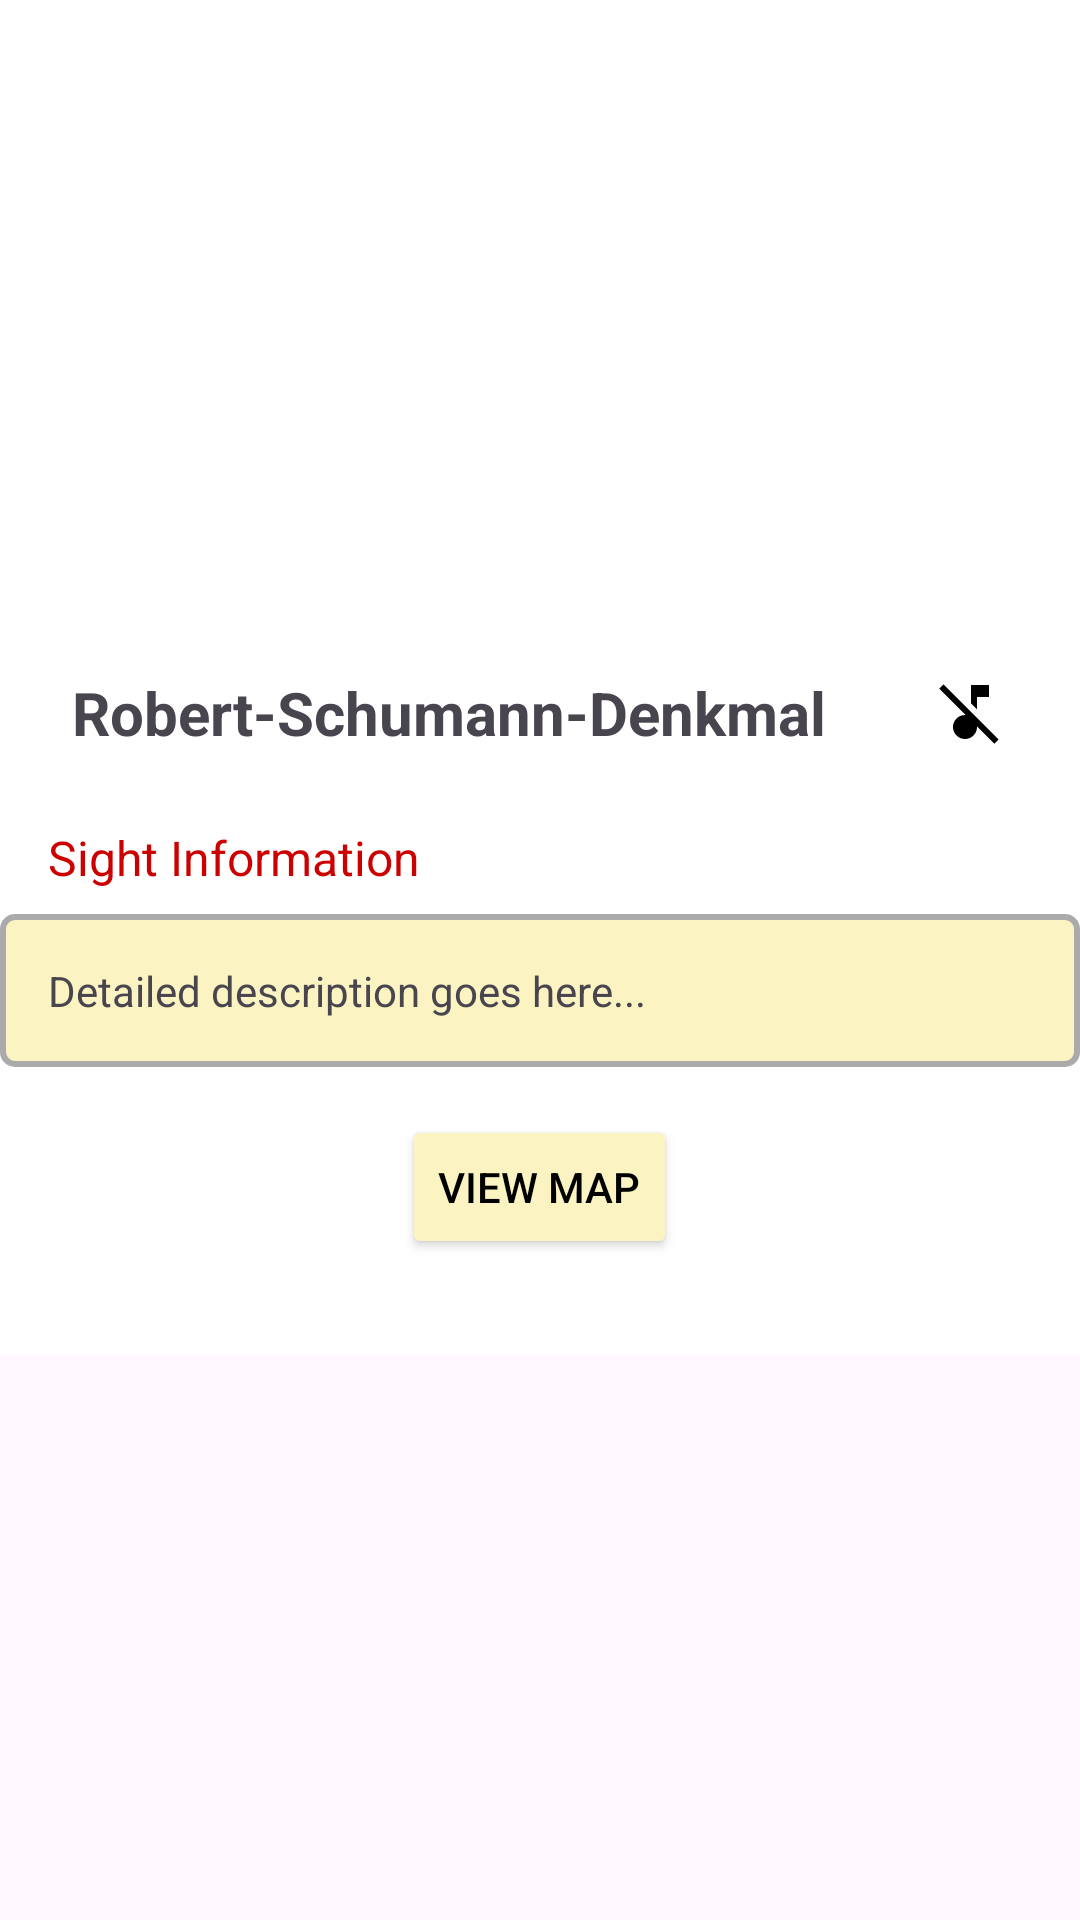

Icons on this 1080px x 1920px Android screen, each with its box as (x1,y1,x2,y2):
music off: (939,684,999,744)
